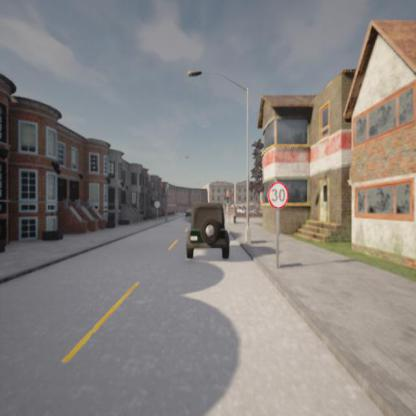traffic_light_red: (226, 193, 230, 202)
traffic_sign_30: (268, 182, 288, 208)
vehicle: (186, 202, 229, 259)
